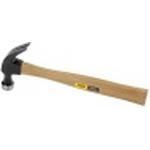hammer: (0, 40, 148, 107)
